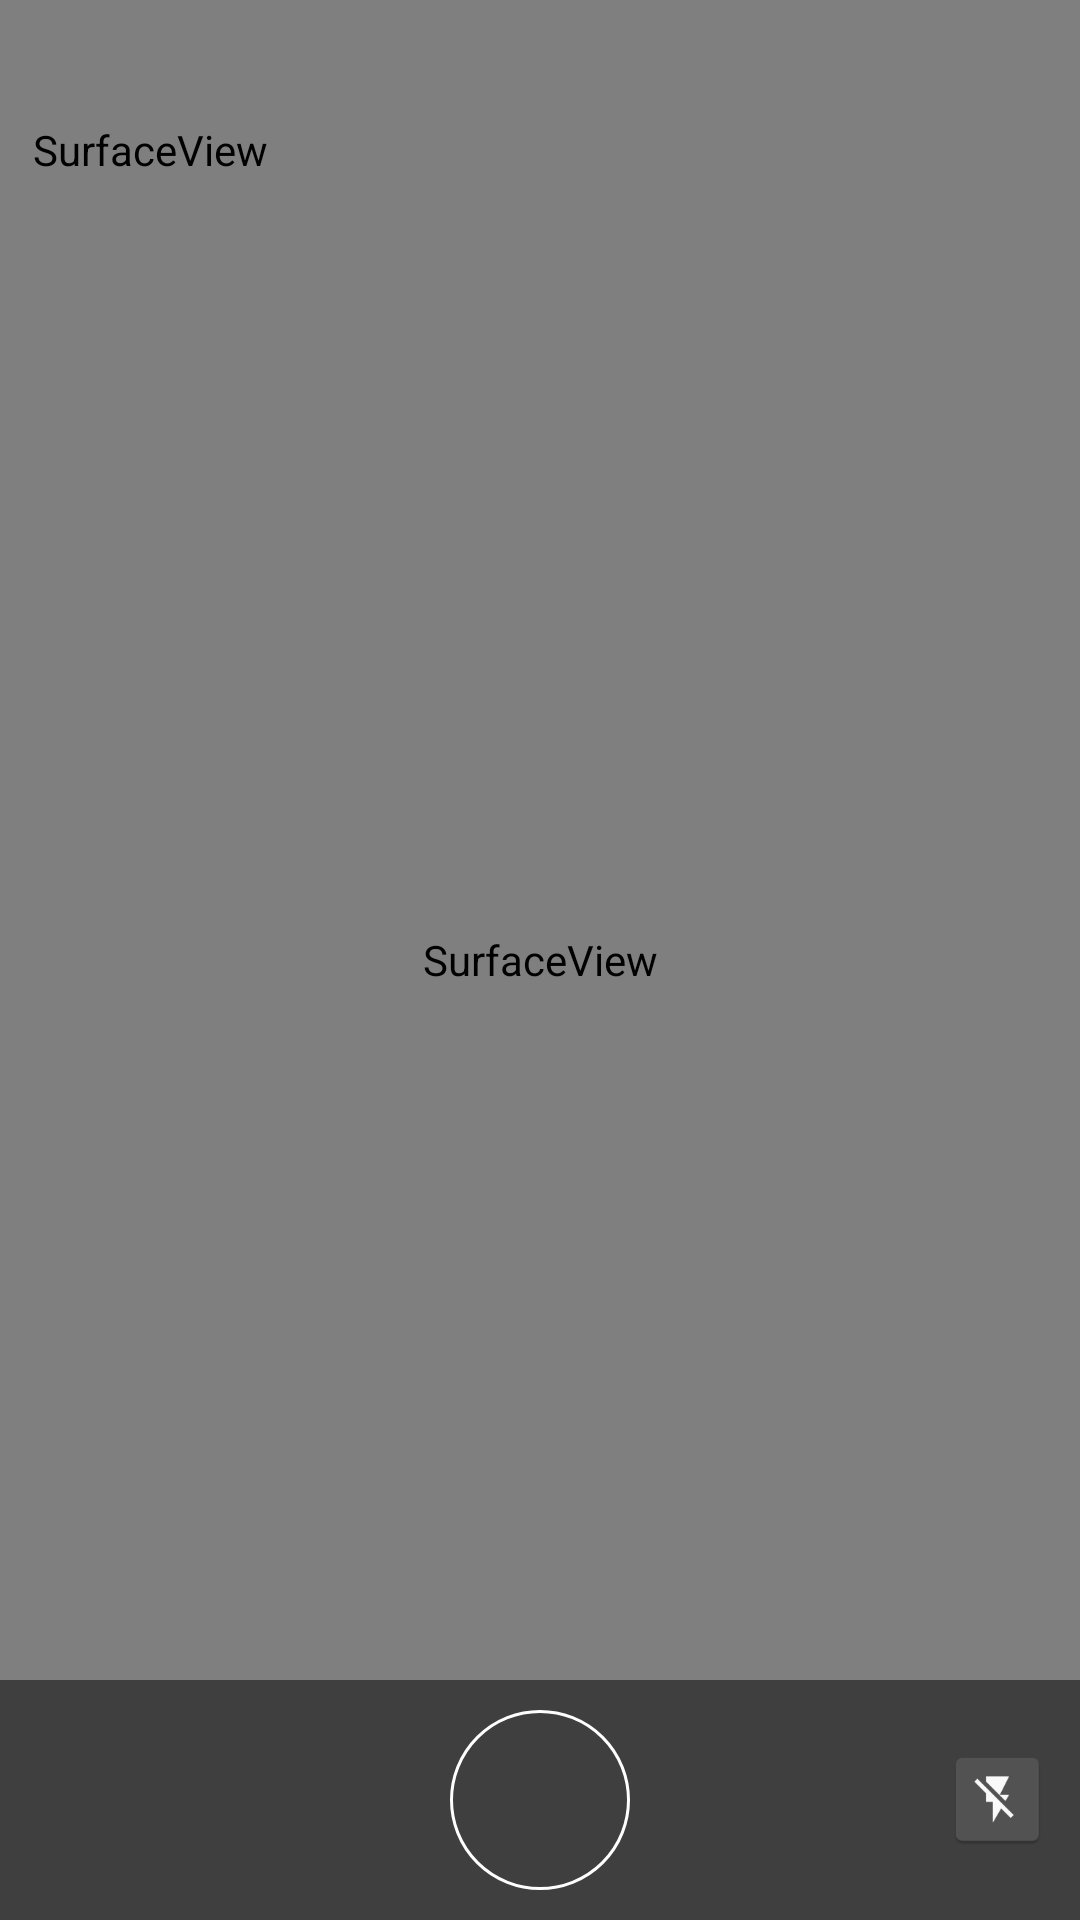

Screen size 1080px x 1920px. Icon name, then its center in pixels as (x,y):
flashoff: (997,1800)
